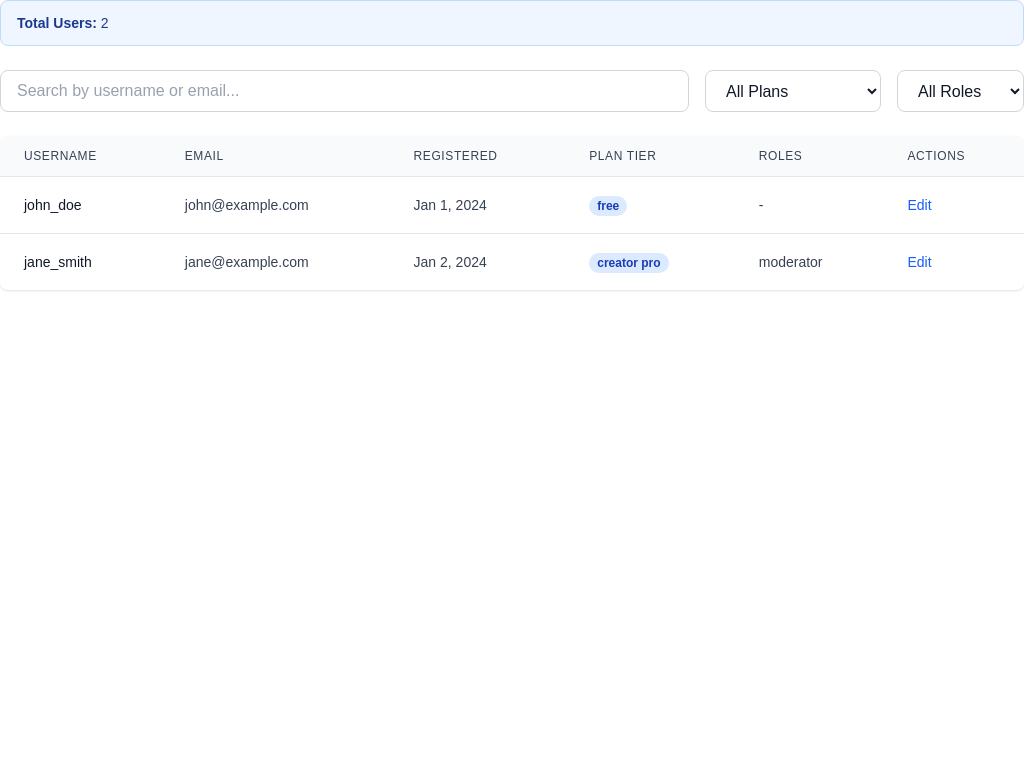
Test: UserManagementTab › User Detail Modal › should open modal when Edit button is clicked
Expected: the text "john_doe" is shown, [24,197,82,213]
Click the button "Edit" in the row of "john_doe" at (920, 205), box [908,195,932,215]
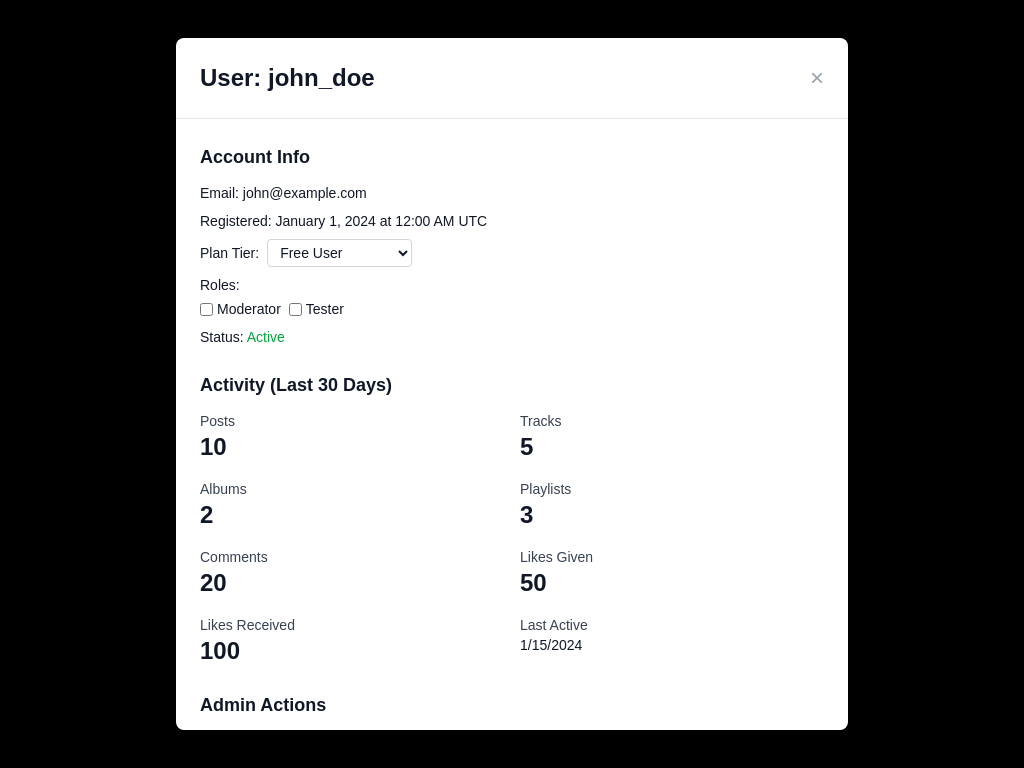
Result: the heading "User: john_doe" is shown at [200,62,375,94]
